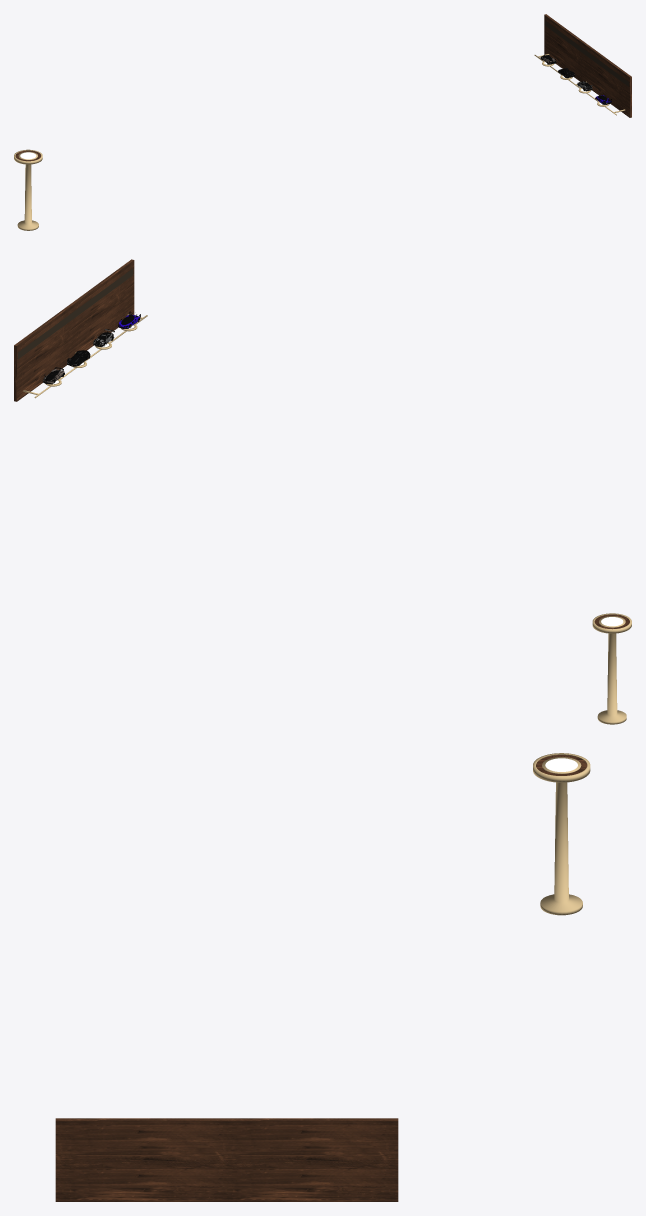
Rendered from diecast.glb.
3 views of the same model, one above another, from view 1: azimuth 30°, elevation 25°; view 2: azimuth 150°, elevation 25°; view 3: azimuth 270°, elevation 25° (orthographic). The views are drawn at different scales.
Parts seen in each view (by area): view 1: DC_Panel, DC_Brass, DC_Labels; view 2: DC_Panel, DC_Brass, DC_Labels; view 3: DC_Panel, DC_Brass.
Boxes of the visible parts, bbox=[...] form: DC_Panel: bbox=[544, 14, 631, 117]; DC_Brass: bbox=[14, 54, 625, 230]; DC_Labels: bbox=[545, 21, 628, 86]; DC_Panel: bbox=[14, 259, 134, 401]; DC_Brass: bbox=[23, 314, 631, 724]; DC_Labels: bbox=[18, 268, 133, 359]; DC_Panel: bbox=[55, 1118, 398, 1201]; DC_Brass: bbox=[533, 753, 590, 915].
Bounding box in the file's own units: 6.93 × 1.7 × 3.28.
Materials: 8 (5 with a texture image).
